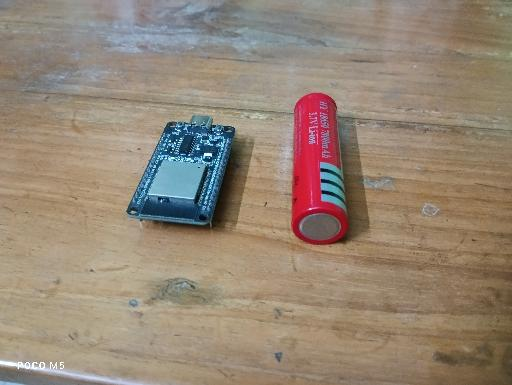Battery: (291, 92, 349, 245)
Esp32: (126, 114, 236, 228)
